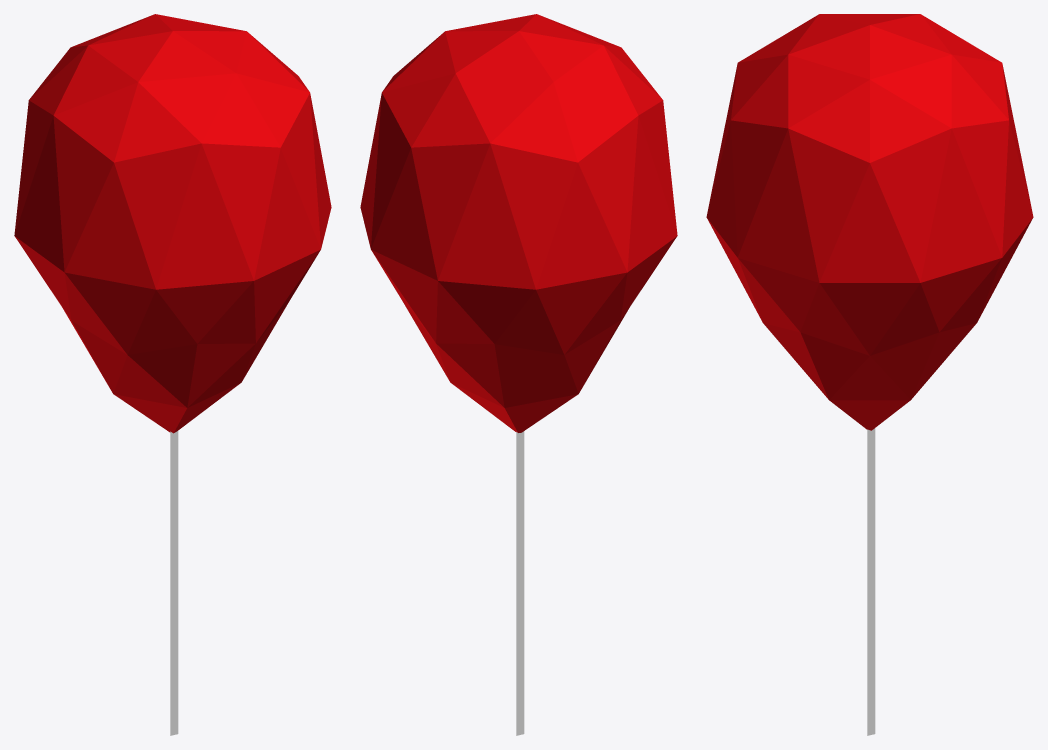
File: balloon.gltf
3 views of the same model, side by side, from view 1: azimuth 30°, elevation 25°; view 2: azimuth 150°, elevation 25°; view 3: azimuth 270°, elevation 25° (orthographic).
Visible parts, largest first — view 1: Icosphere; view 2: Icosphere; view 3: Icosphere.
Part boxes in pixels (bbox=[...]): Icosphere: bbox=[14, 14, 331, 735]; Icosphere: bbox=[360, 14, 677, 735]; Icosphere: bbox=[706, 14, 1033, 735].
Size of the model in its own units: 2.35 by 5.91 by 2.47.
